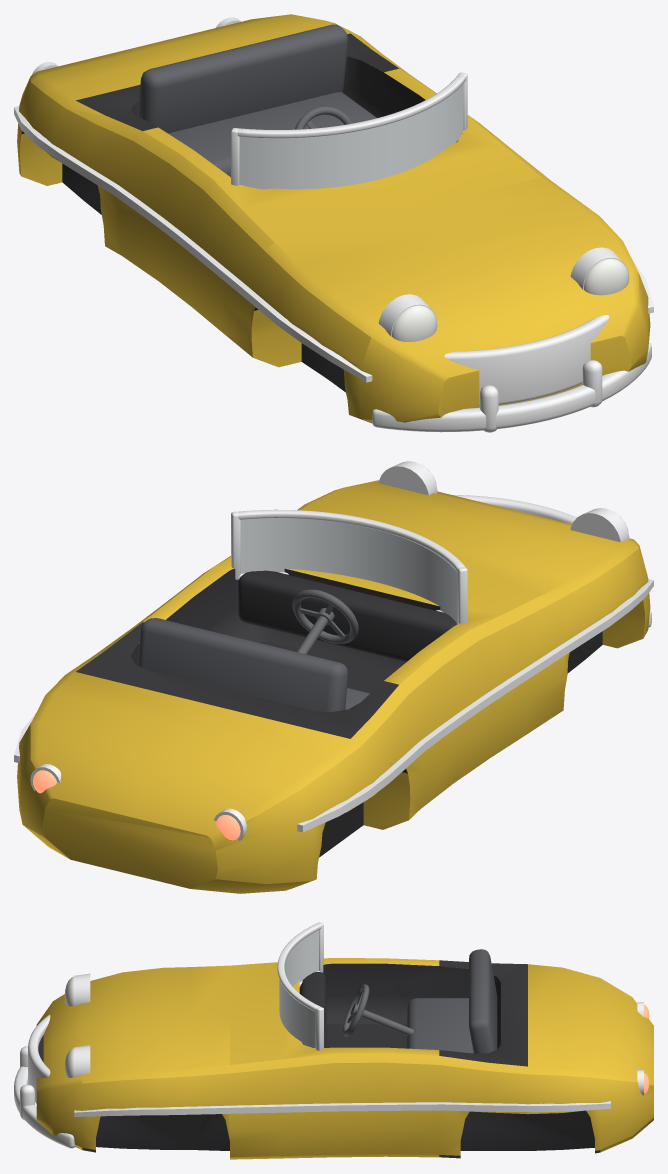
Rendered from body_autopia.fbx.
3 views of the same model, one above another, from view 1: azimuth 30°, elevation 25°; view 2: azimuth 150°, elevation 25°; view 3: azimuth 270°, elevation 25° (orthographic). The views are drawn at different scales.
Parts seen in each view (by area): view 1: paint_1, seat_2, autoglass_1, dark_4, chrome_13, chrome_18, chrome_3, seat_1, chrome_7, em_autolamp_1, em_autolamp_2, chrome_12 (+4 smaller); view 2: paint_1, dark_4, autoglass_1, seat_2, dark_3, chrome_3, chrome_7, gunmetal_1, chrome_11, chrome_12, dark_2, chrome_13 (+1 smaller); view 3: paint_1, dark_4, chrome_4, seat_1, seat_2, autoglass_1, dark_2, chrome_18, chrome_13, chrome_7, dark_3, gunmetal_1 (+4 smaller).
Boxes of the visible parts, bbox=[...] form: paint_1: bbox=[17, 14, 650, 422]; seat_2: bbox=[137, 24, 348, 133]; autoglass_1: bbox=[239, 84, 463, 189]; dark_4: bbox=[21, 33, 462, 423]; chrome_13: bbox=[444, 315, 609, 404]; chrome_18: bbox=[372, 342, 651, 432]; chrome_3: bbox=[14, 106, 372, 382]; seat_1: bbox=[168, 92, 376, 177]; chrome_7: bbox=[237, 74, 466, 138]; em_autolamp_1: bbox=[392, 305, 437, 341]; em_autolamp_2: bbox=[584, 258, 629, 295]; chrome_12: bbox=[570, 247, 629, 289]; paint_1: bbox=[17, 480, 650, 893]; dark_4: bbox=[76, 568, 602, 888]; autoglass_1: bbox=[240, 518, 457, 623]; seat_2: bbox=[138, 618, 348, 712]; dark_3: bbox=[238, 570, 457, 661]; chrome_3: bbox=[297, 579, 653, 832]; chrome_7: bbox=[238, 509, 464, 572]; gunmetal_1: bbox=[292, 589, 358, 643]; chrome_11: bbox=[570, 508, 629, 542]; chrome_12: bbox=[378, 461, 437, 495]; dark_2: bbox=[259, 641, 393, 693]; chrome_13: bbox=[453, 495, 576, 524]; paint_1: bbox=[36, 958, 653, 1159]; dark_4: bbox=[82, 960, 600, 1158]; chrome_4: bbox=[74, 1101, 610, 1116]; seat_1: bbox=[407, 998, 473, 1053]; seat_2: bbox=[469, 949, 497, 1053]; autoglass_1: bbox=[279, 930, 318, 1048]; dark_2: bbox=[326, 1024, 406, 1048]; chrome_18: bbox=[14, 1066, 76, 1148]; chrome_13: bbox=[28, 1014, 50, 1103]; chrome_7: bbox=[277, 923, 321, 1011]; dark_3: bbox=[299, 972, 326, 1047]; gunmetal_1: bbox=[343, 984, 369, 1036].
Bounding box in the file's own units: 0.1915 × 0.1055 × 0.42.
